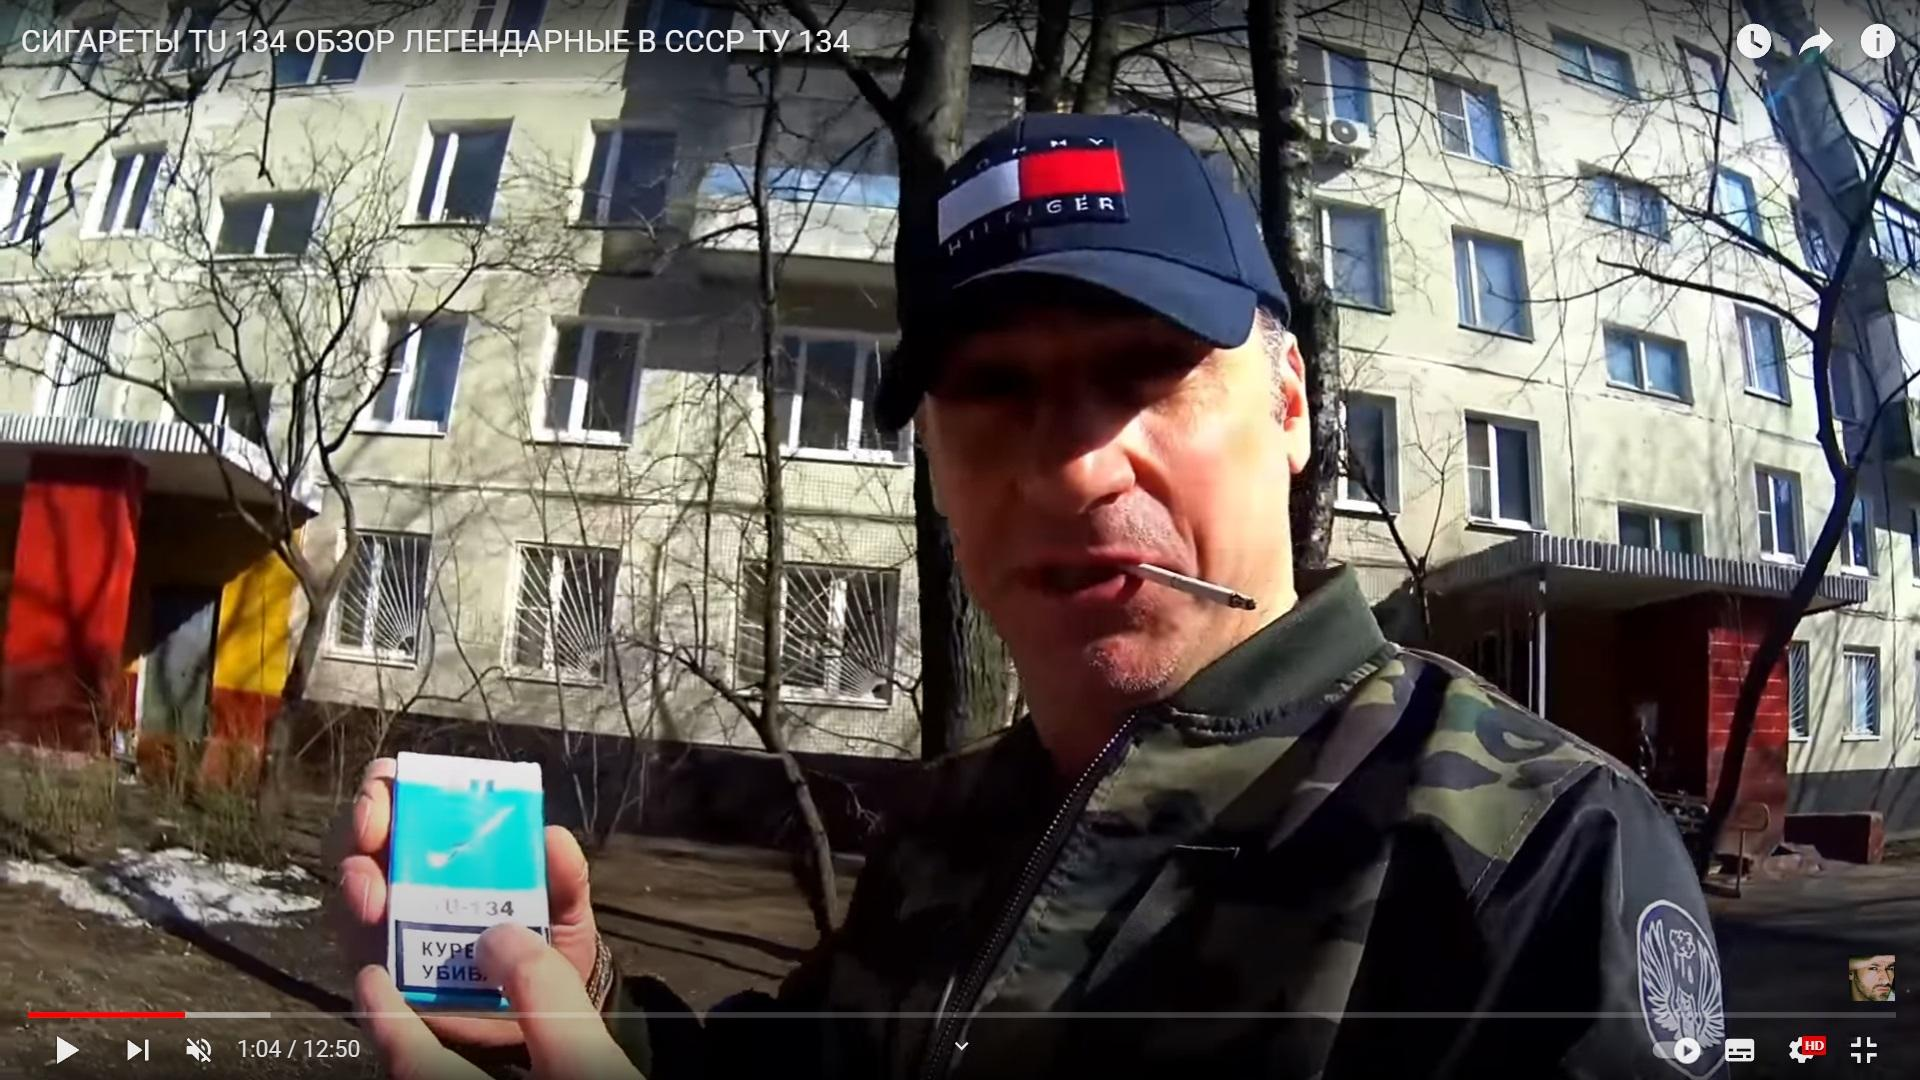cigarette: (1109, 562, 1258, 611)
